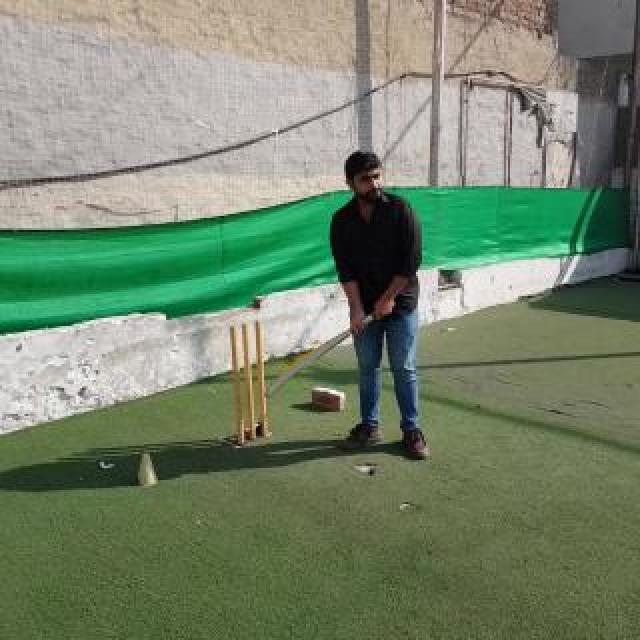bat: (264, 300, 396, 398)
